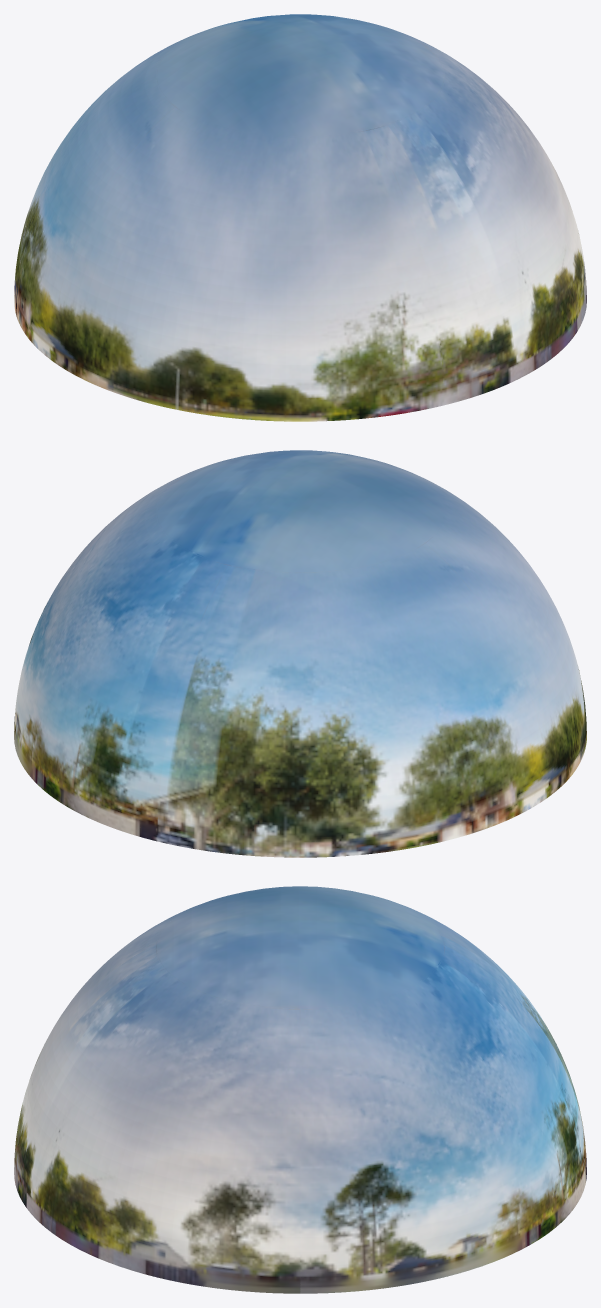
File: interior.glb
The picture shows the model from 3 angles, top to bottom: view 1: azimuth 30°, elevation 25°; view 2: azimuth 150°, elevation 25°; view 3: azimuth 270°, elevation 25°; orthographic projection.
Parts seen in each view (by area): view 1: backdrop_3, backdrop_7, backdrop_2; view 2: backdrop_2, backdrop_7, backdrop_3; view 3: backdrop_2, backdrop_3, backdrop_7.
Boxes of the visible parts, x1,y1,x2,y2 form: backdrop_3: [52, 46, 586, 421]; backdrop_7: [156, 14, 444, 137]; backdrop_2: [14, 32, 457, 360]; backdrop_2: [14, 482, 548, 857]; backdrop_7: [156, 450, 444, 573]; backdrop_3: [143, 469, 586, 796]; backdrop_2: [300, 905, 586, 1293]; backdrop_3: [14, 905, 300, 1293]; backdrop_7: [156, 886, 444, 1009].
Size of the model in its own units: 90 by 45.54 by 90.01.
27 materials, 27 textured.
